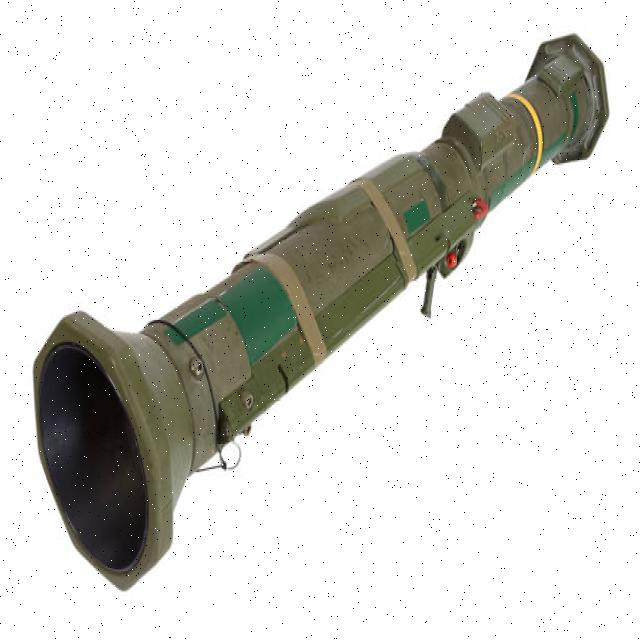bazooka: (31, 20, 618, 605)
